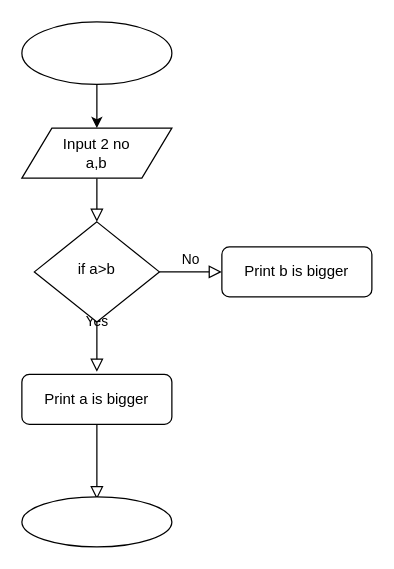
Image size: 394x569. Some labels were removed from this diagram. The centre of each missing label's shape, as x and y in pixels:
End: pixel 96 521
Start: pixel 96 52
